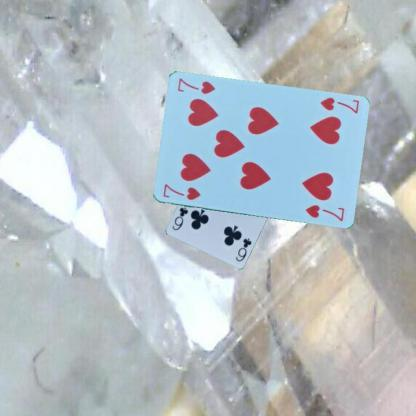6c: (233, 235, 252, 262)
7h: (160, 181, 202, 202), (317, 95, 360, 115)
